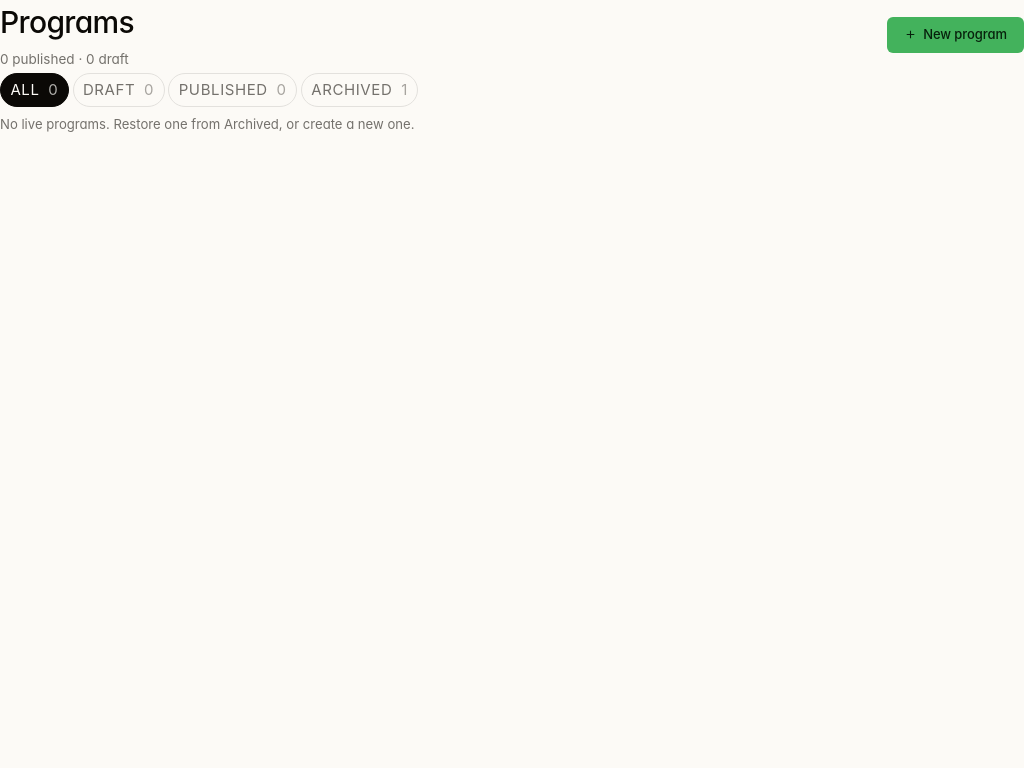
Test: programs: restore › lists archived programs behind their own filter, and restores only after the dialog
Expected: the text "No live programs. Restore one from Archived, or create a new one." is shown, [0, 116, 414, 132]
Click the button "Archived 1" at (360, 90), box [301, 73, 418, 107]
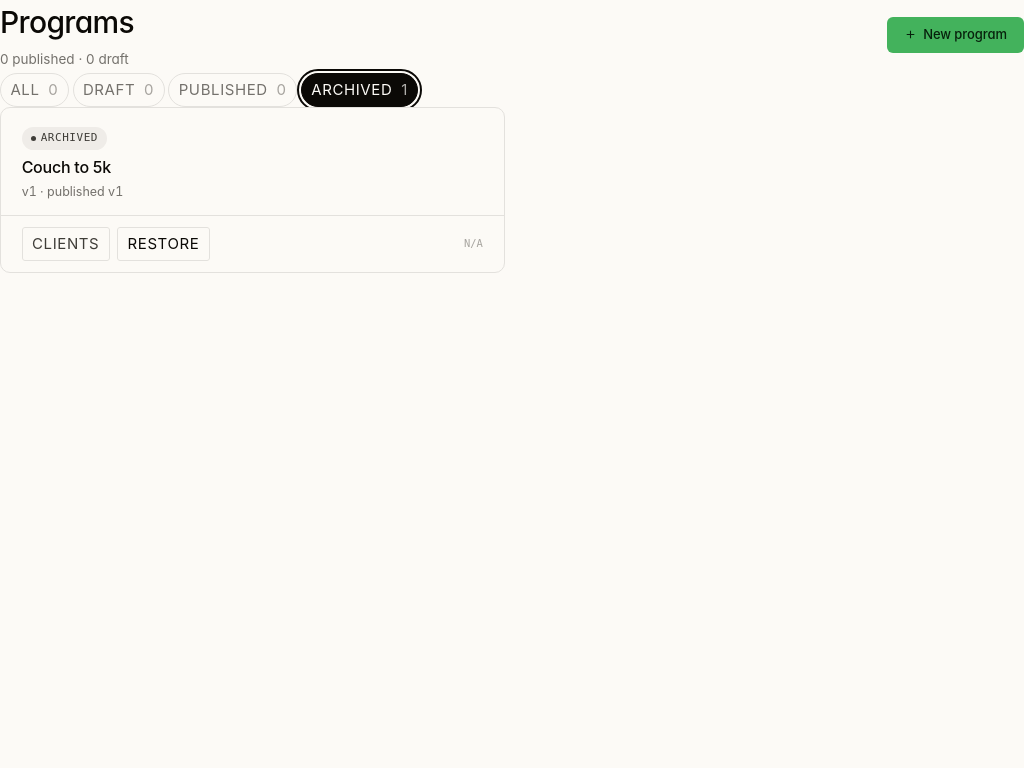
Click the button "Restore" at (163, 244), box [117, 227, 210, 261]
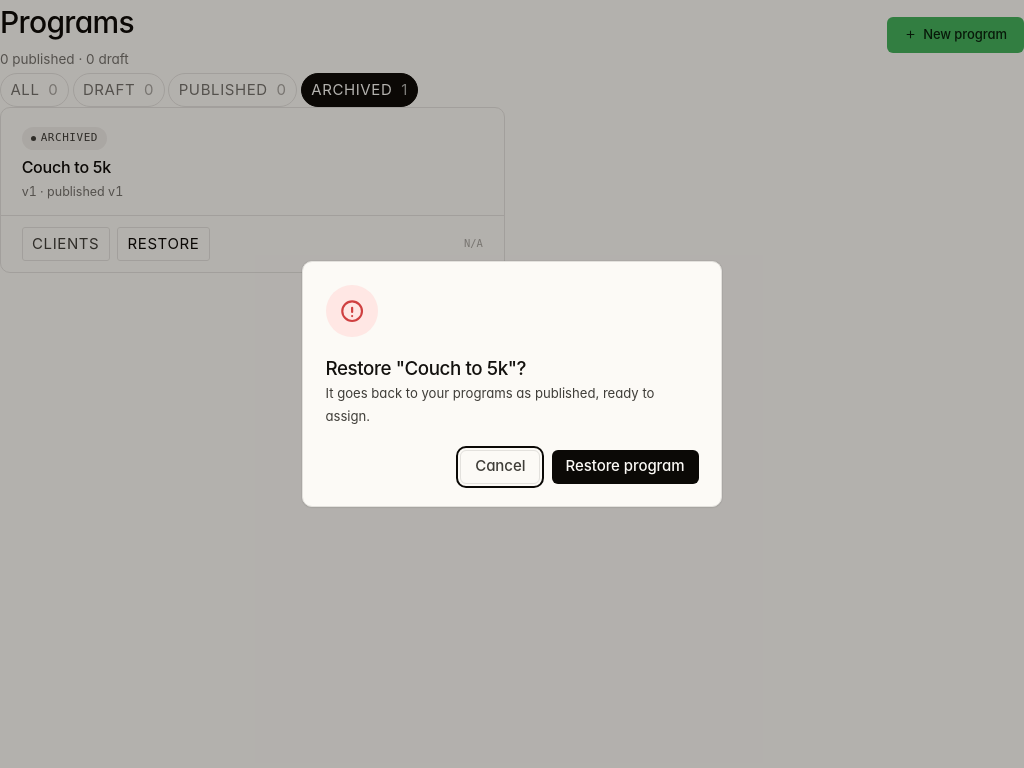
Expected: the dialog "Restore \"Couch to 5k\"?" shows "It goes back to your programs as published, ready to assign.", [326, 385, 654, 424]
Click the button "Restore program" at (625, 466), box [552, 450, 698, 484]
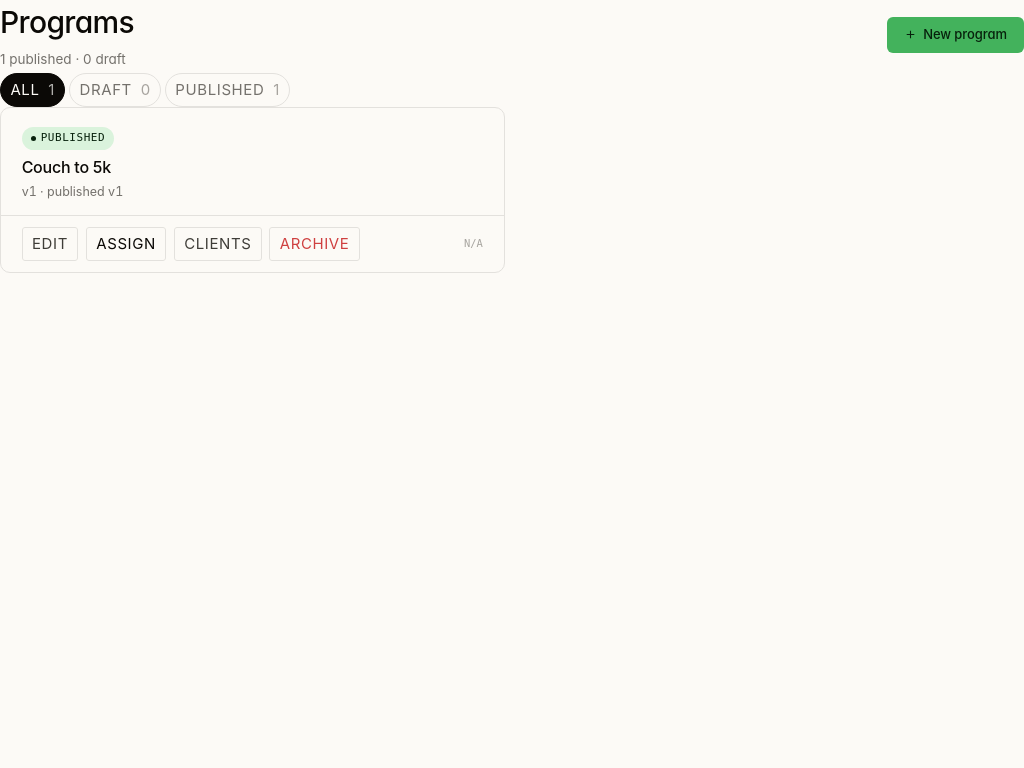
Expected: the button "Assign" is shown, [86, 227, 166, 261]
Expected: the button "Archived" is gone
